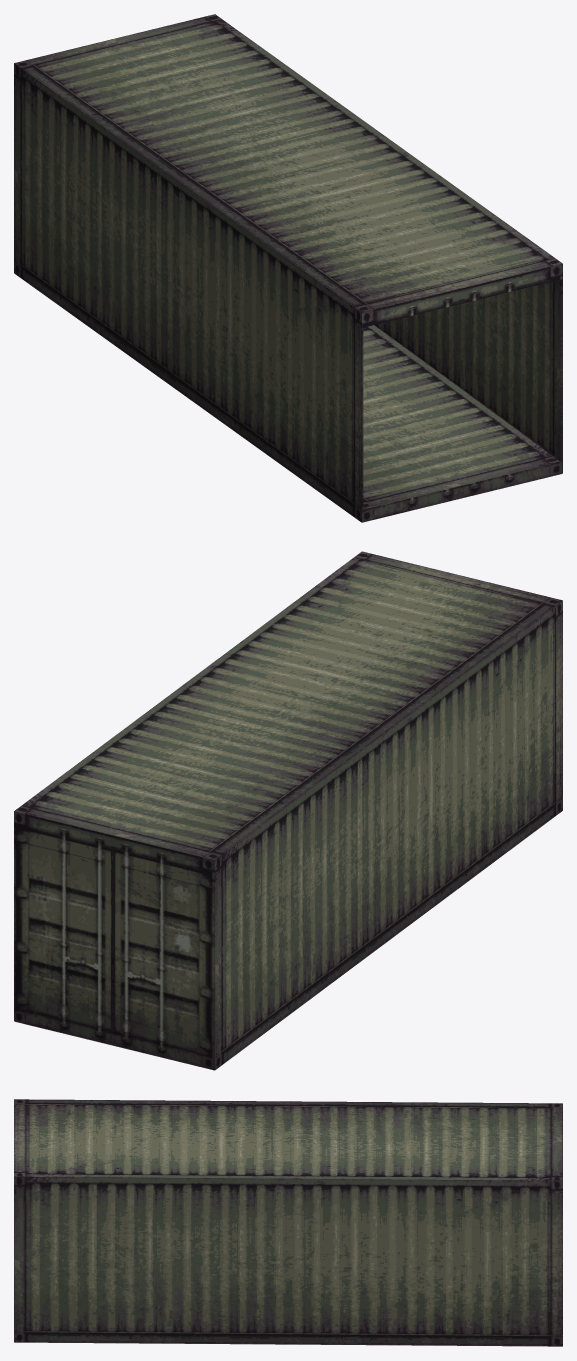
The model's file is SM_EC_ShippingContainer_10.fbx.
The picture shows the model from 3 angles, top to bottom: view 1: azimuth 30°, elevation 25°; view 2: azimuth 150°, elevation 25°; view 3: azimuth 270°, elevation 25°; orthographic projection. The views are drawn at different scales.
Visible parts, largest first — view 1: SM_EC_ShippingContainer_10; view 2: SM_EC_ShippingContainer_10; view 3: SM_EC_ShippingContainer_10.
Boxes of the visible parts, box(x1,y1,x2,y2) form: SM_EC_ShippingContainer_10: box(14, 14, 562, 522); SM_EC_ShippingContainer_10: box(14, 551, 562, 1070); SM_EC_ShippingContainer_10: box(14, 1099, 562, 1346).
Size of the model in its own units: 3 by 9 by 3.07.
